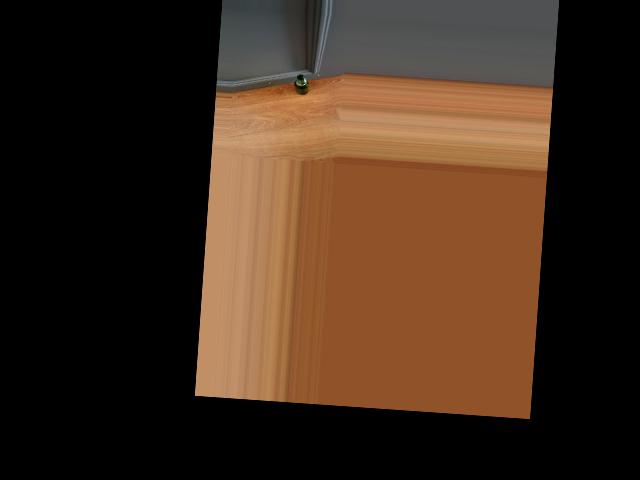beer: (294, 74, 309, 95)
